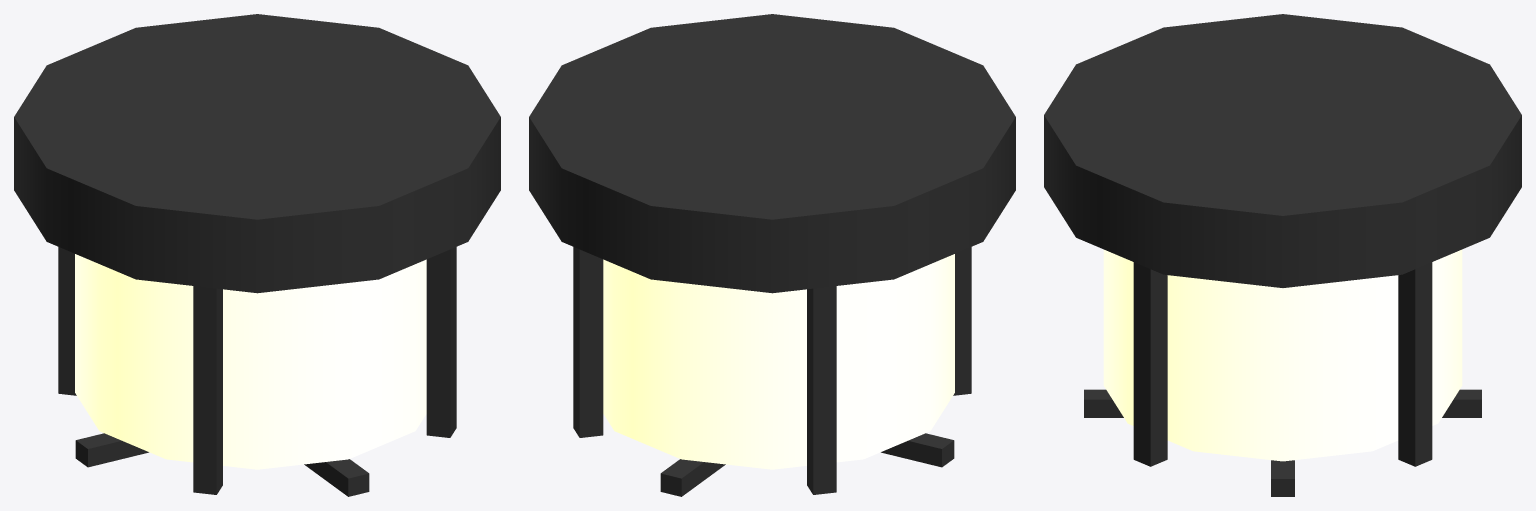
Rendered from prop_bulkhead_lamp.glb.
3 renders of one model, left to right at view 1: azimuth 30°, elevation 25°; view 2: azimuth 150°, elevation 25°; view 3: azimuth 270°, elevation 25°, orthographic.
Visible parts, largest first — view 1: prop_bulkhead_lamp; view 2: prop_bulkhead_lamp; view 3: prop_bulkhead_lamp.
Boxes of the visible parts, <box> form: prop_bulkhead_lamp: <box>14,14,500,496</box>; prop_bulkhead_lamp: <box>529,14,1015,496</box>; prop_bulkhead_lamp: <box>1044,14,1521,496</box>.
Bounding box in the file's own units: 0.24 × 0.165 × 0.24.
